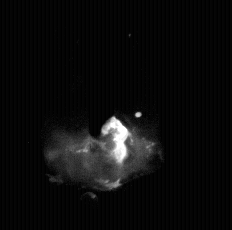arame: (90, 0, 111, 141)
poca: (43, 0, 158, 230)
